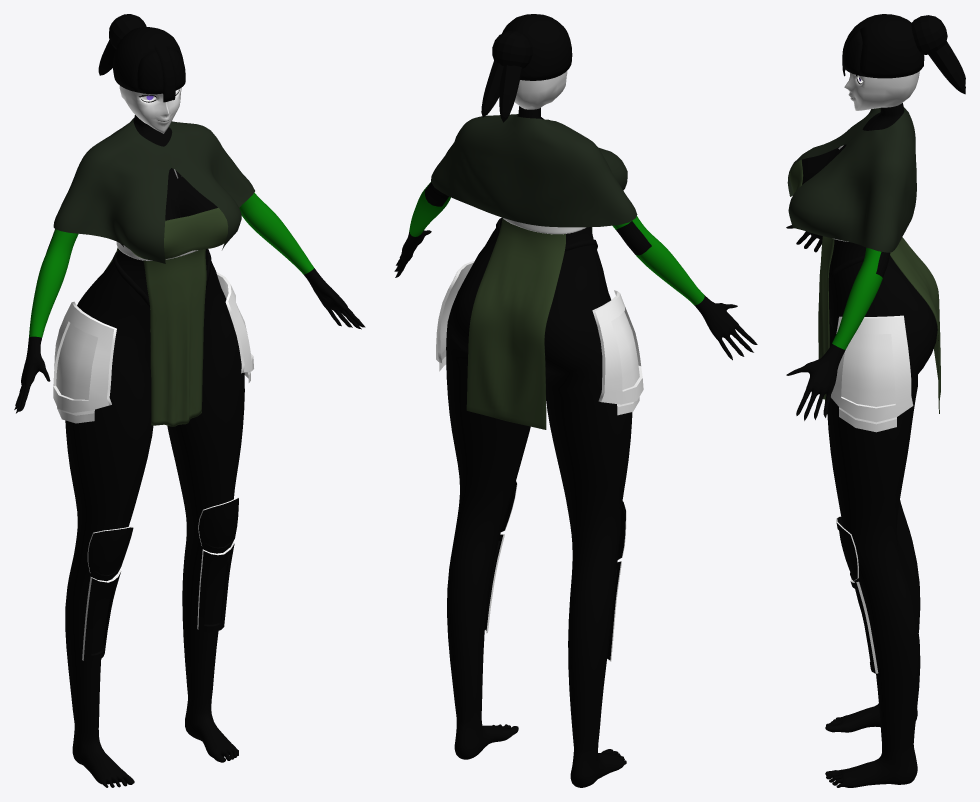
The model's file is Porphi - Tpose.fbx.
3 renders of one model, left to right at view 1: azimuth 30°, elevation 25°; view 2: azimuth 150°, elevation 25°; view 3: azimuth 270°, elevation 25°, orthographic. The views are drawn at different scales.
Parts seen in each view (by area): view 1: Body, Cube.031, Body.007, Cube.009, Body.013, Cube.006, Body.014, Cylinder, Cube.002, Cube.010, Cube.029; view 2: Body, Cube.031, Body.006, Cube.009, Cube.006, Cube.030, Cube.002, Cube.029, Cube.010, Body.013; view 3: Body, Cube.031, Cube.010, Cube.006, Cube.002, Body.006, Body.007, Cube.029, Cube.030, Body.014, Body.013, Cube.012 (+1 smaller).
Boxes of the visible parts, <box> form: Body: <box>14,115,365,787</box>; Cube.031: <box>53,117,254,263</box>; Body.007: <box>143,249,206,426</box>; Cube.009: <box>53,301,116,412</box>; Body.013: <box>82,542,234,661</box>; Cube.006: <box>113,27,185,102</box>; Body.014: <box>87,497,238,579</box>; Cylinder: <box>132,208,228,259</box>; Cube.002: <box>119,85,181,133</box>; Cube.010: <box>216,272,253,373</box>; Cube.029: <box>109,14,146,49</box>; Body: <box>394,106,757,787</box>; Cube.031: <box>431,114,637,227</box>; Body.006: <box>466,218,565,429</box>; Cube.009: <box>592,290,643,404</box>; Cube.006: <box>502,14,572,80</box>; Cube.030: <box>481,60,522,122</box>; Cube.002: <box>514,71,567,109</box>; Cube.029: <box>492,31,532,68</box>; Cube.010: <box>436,261,474,362</box>; Body.013: <box>484,534,621,661</box>; Body: <box>786,103,937,787</box>; Cube.031: <box>787,107,916,252</box>; Cube.010: <box>831,315,913,422</box>; Cube.006: <box>842,14,924,78</box>; Cube.002: <box>844,71,919,110</box>; Body.006: <box>890,237,940,413</box>; Body.007: <box>818,236,834,401</box>; Cube.029: <box>911,15,947,54</box>; Cube.030: <box>928,41,965,94</box>; Body.014: <box>836,516,858,580</box>; Body.013: <box>850,578,878,673</box>; Cube.012: <box>839,407,896,432</box>.
Size of the model in its own units: 90.31 by 181 by 39.73.
